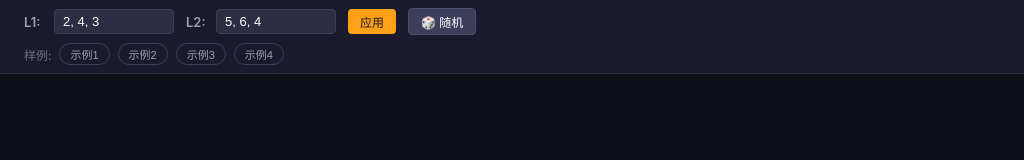
Test: DataInput › 输入无效数据应该显示错误
Replace the text in the field with test id "l1-input" with "abc" at {"x": 114, "y": 22}, box [54, 9, 174, 34]
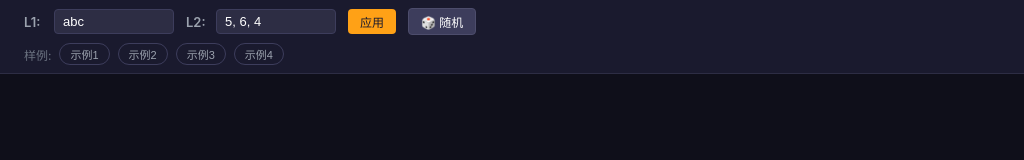
Click the button with test id "apply-btn" at {"x": 372, "y": 22}, box [348, 9, 396, 34]
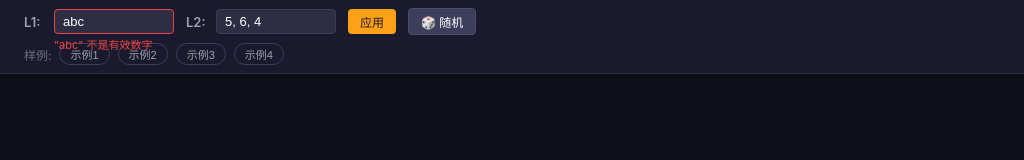
Expected: the text "\"abc\" 不是有效数字" is shown, [54, 36, 152, 52]
